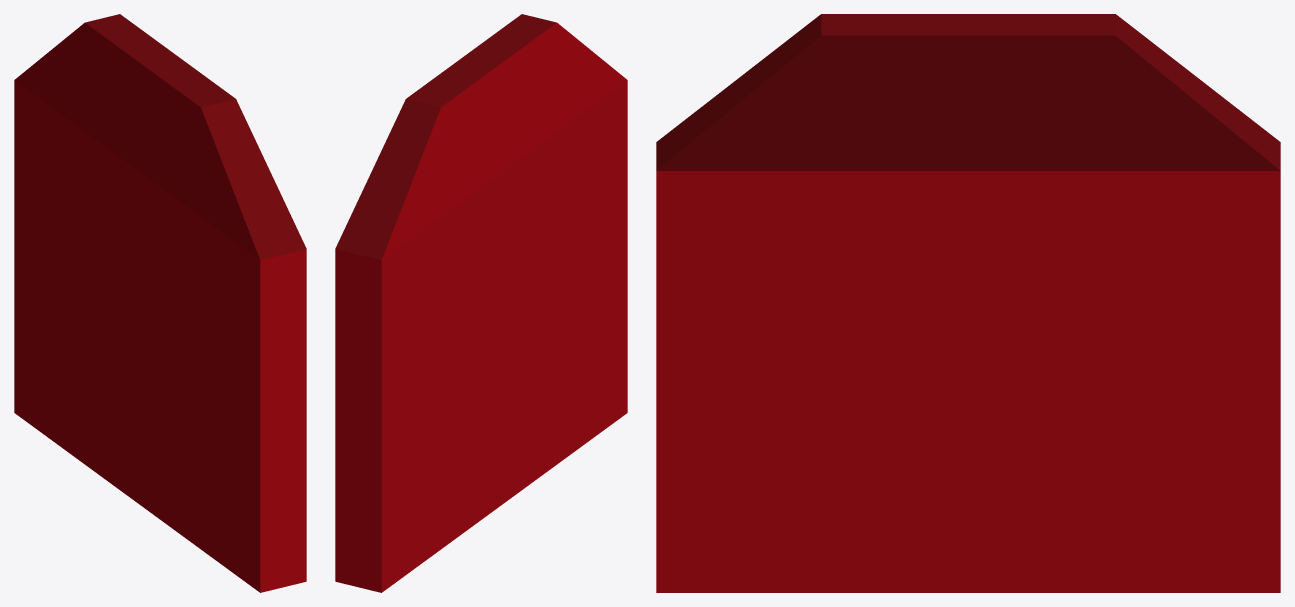
The model's file is knob_icon.fbx.
The picture shows the model from 3 angles, left to right: view 1: azimuth 30°, elevation 25°; view 2: azimuth 150°, elevation 25°; view 3: azimuth 270°, elevation 25°; orthographic projection. The views are drawn at different scales.
Visible parts, largest first — view 1: Cube; view 2: Cube; view 3: Cube.
Boxes of the visible parts, x1=… form: Cube: x1=14, y1=14, x2=306, y2=592; Cube: x1=335, y1=14, x2=627, y2=592; Cube: x1=656, y1=14, x2=1280, y2=592.
Bounding box in the file's own units: 2 × 17.97 × 18.36.
